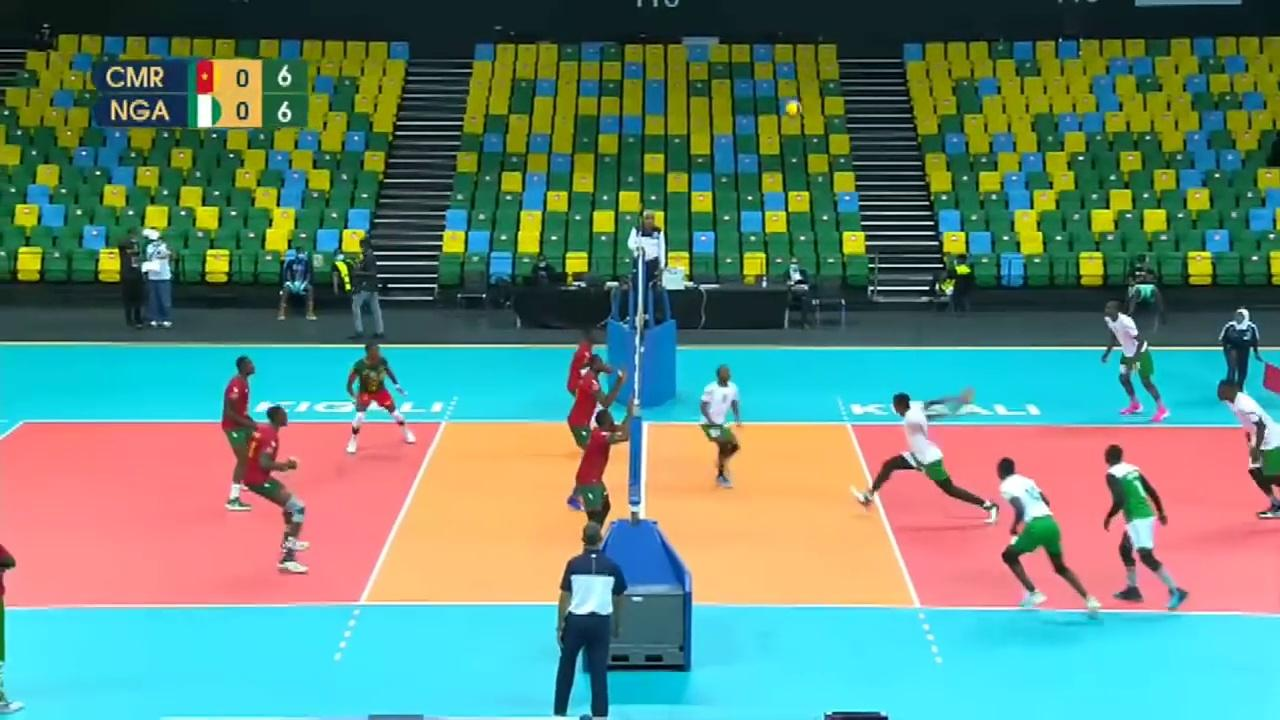player: (848, 390, 999, 521), (995, 458, 1100, 618), (1102, 448, 1190, 602), (244, 402, 314, 574), (1215, 379, 1280, 520), (216, 356, 271, 512), (574, 407, 625, 564), (1101, 301, 1168, 416), (569, 348, 616, 511), (345, 343, 410, 455), (701, 366, 747, 487), (564, 325, 607, 447)
refree: (550, 527, 633, 715), (1211, 299, 1267, 394), (628, 211, 666, 314)
